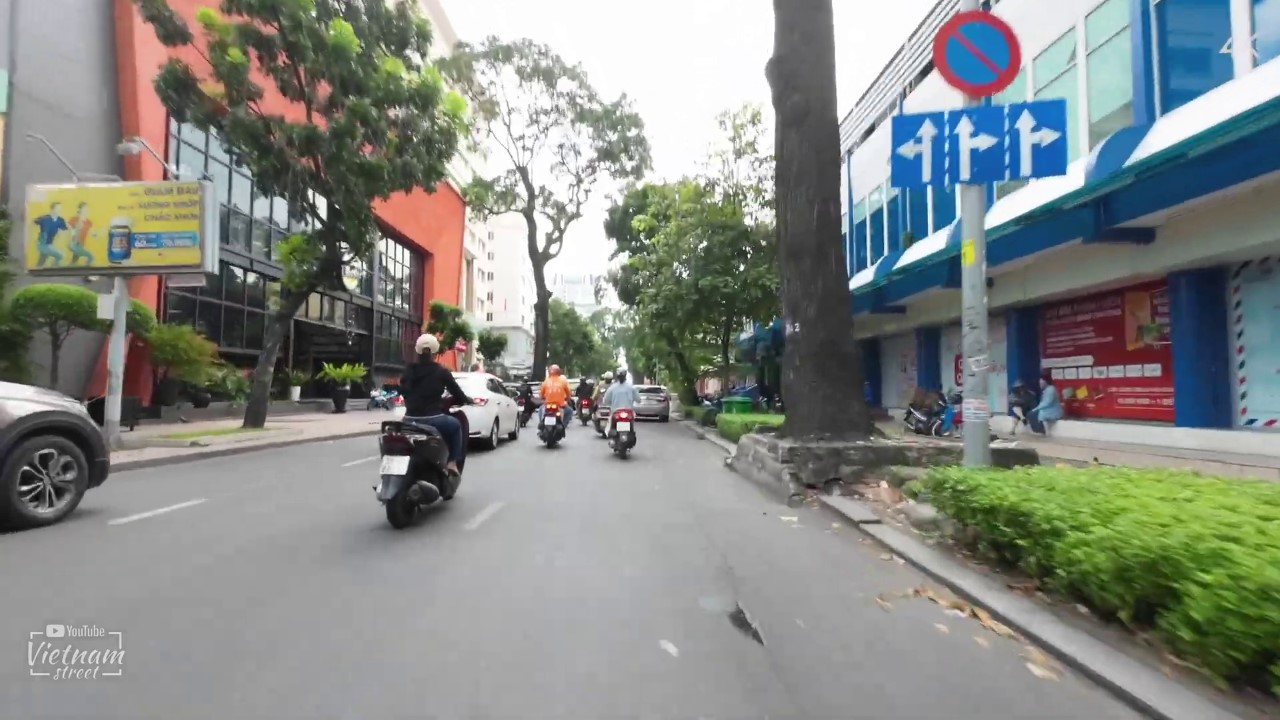cam_do_xe: (931, 8, 1024, 99)
